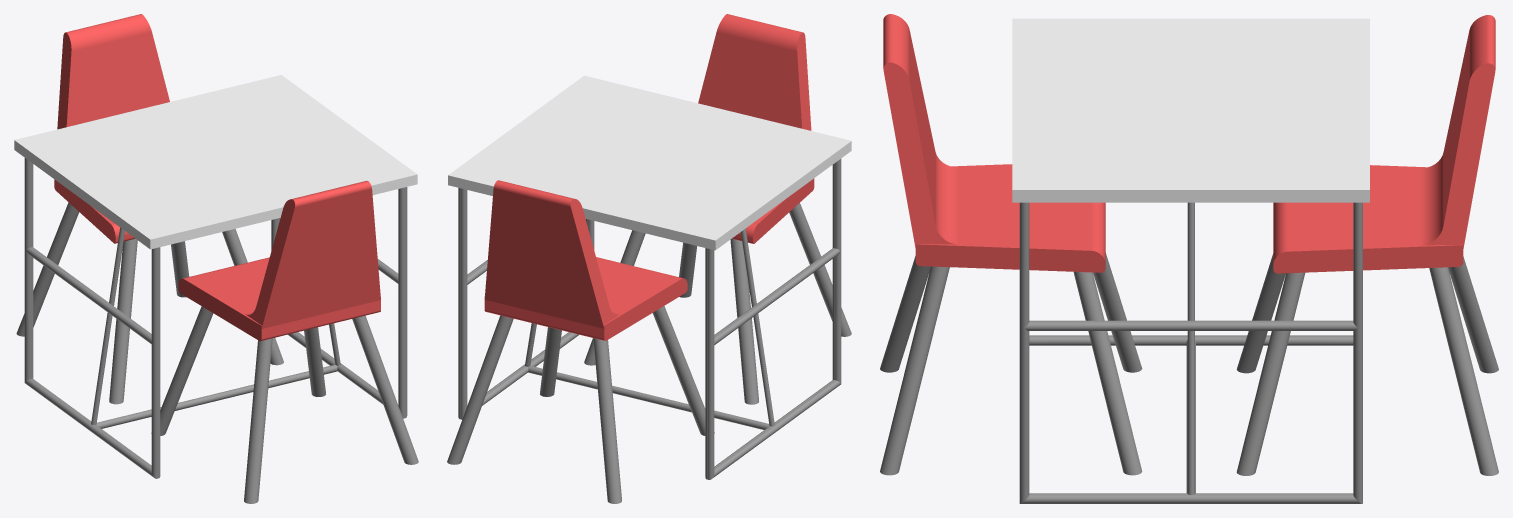
Rendered from 525_ダイニングテーブルセット2人掛け.glb.
3 renders of one model, left to right at view 1: azimuth 30°, elevation 25°; view 2: azimuth 150°, elevation 25°; view 3: azimuth 270°, elevation 25°, orthographic. The views are drawn at different scales.
Parts seen in each view (by area): view 1: Body, 004_椅子.001, 004_椅子; view 2: Body, 004_椅子, 004_椅子.001; view 3: Body, 004_椅子.001, 004_椅子.
Part boxes in pixels (box(x1,y1,x2,y2)): Body: box(14, 75, 417, 478); 004_椅子.001: box(151, 181, 418, 503); 004_椅子: box(16, 14, 283, 404); Body: box(448, 75, 851, 479); 004_椅子: box(447, 180, 714, 503); 004_椅子.001: box(584, 14, 851, 404); Body: box(1012, 18, 1369, 503); 004_椅子.001: box(880, 14, 1142, 475); 004_椅子: box(1236, 15, 1498, 475).
Size of the model in its own units: 0.85 by 0.8934 by 1.3.
